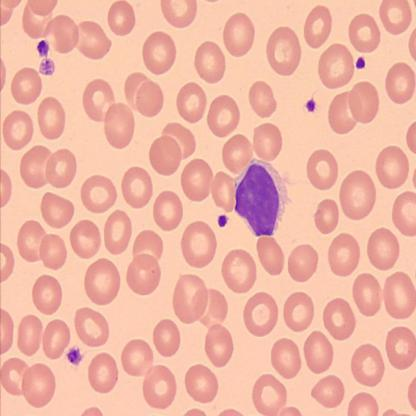Lymphocyte: (235, 159, 290, 237)
